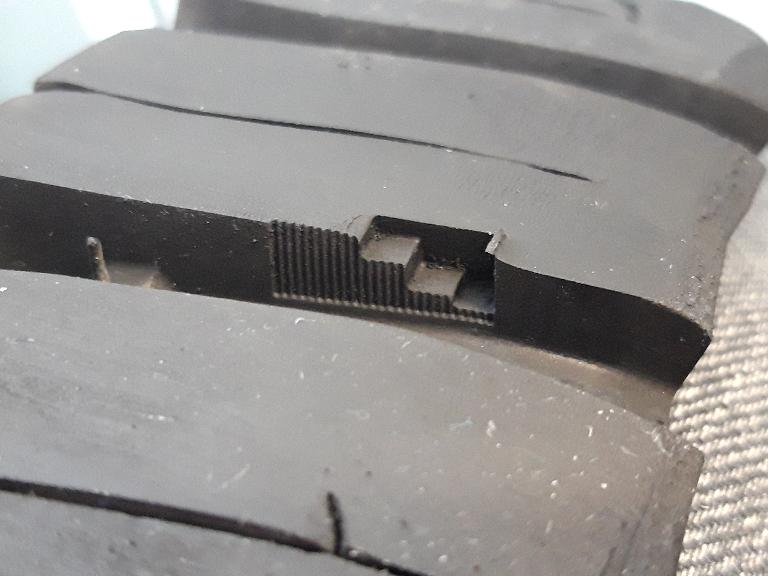temoin:75: (307, 199, 511, 337)
